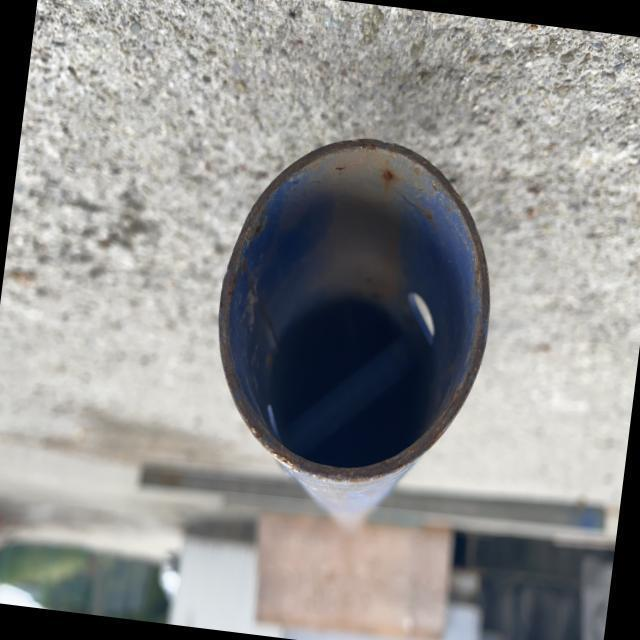pipe: (216, 135, 491, 481)
